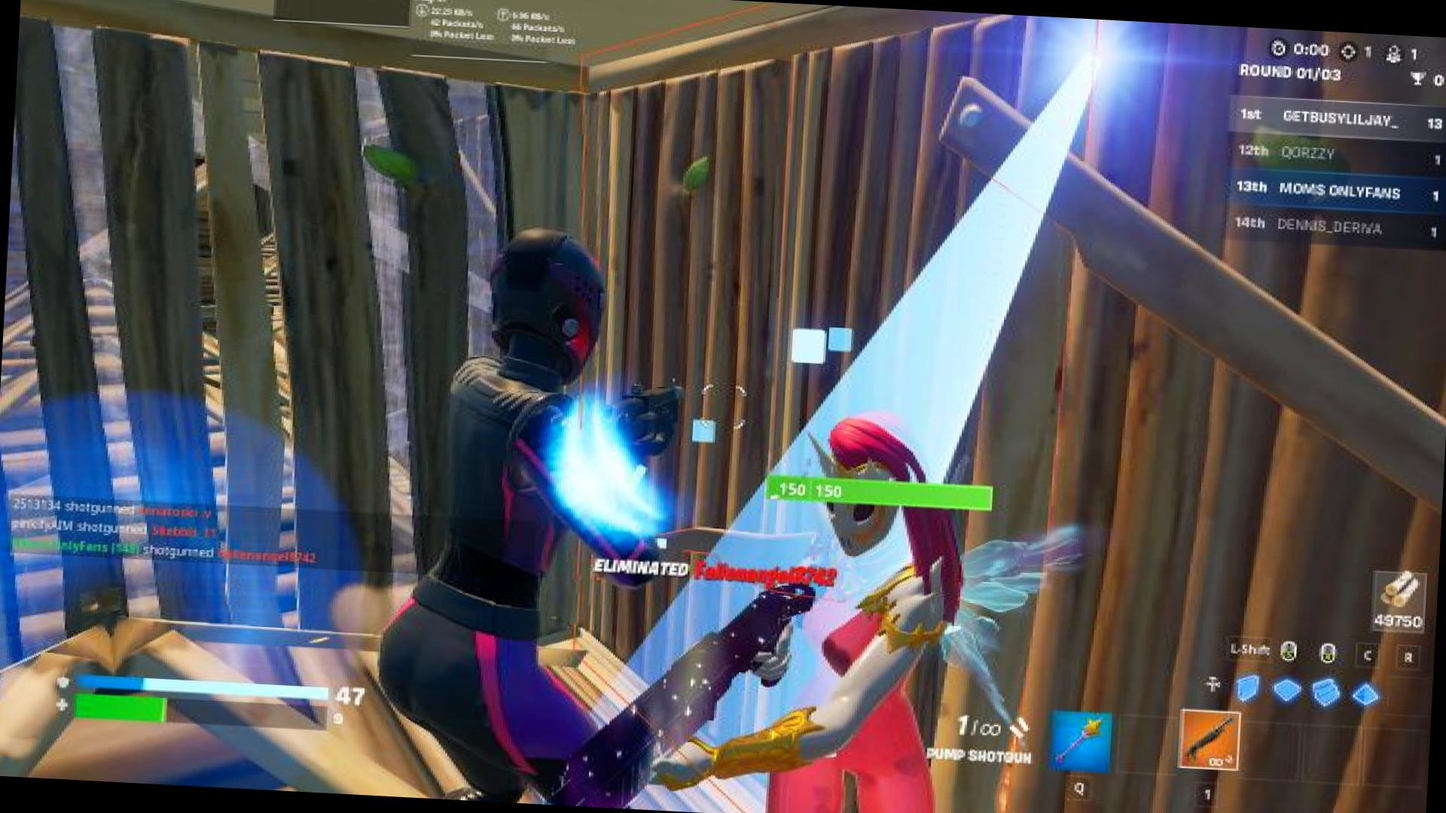player: (676, 416, 1063, 813)
